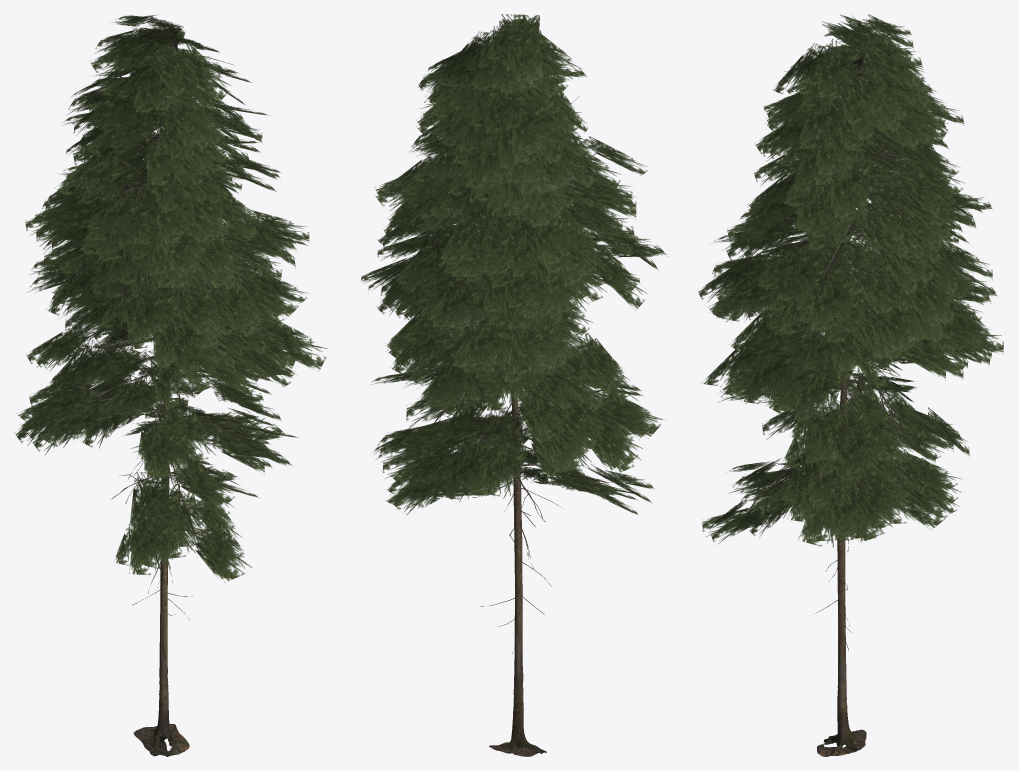
The model's file is fir_0.glb.
3 views of the same model, side by side, from view 1: azimuth 30°, elevation 25°; view 2: azimuth 150°, elevation 25°; view 3: azimuth 270°, elevation 25° (orthographic). The views are drawn at different scales.
Parts seen in each view (by area): view 1: fir_0_leaves, fir_tree_01_trunk_a, fir_tree_01_bark; view 2: fir_0_leaves, fir_tree_01_trunk_a, fir_tree_01_bark, fir_tree_01_dead_branches; view 3: fir_0_leaves, fir_tree_01_trunk_a, fir_tree_01_bark.
Boxes of the visible parts, x1=… form: fir_0_leaves: x1=14, y1=15, x2=327, y2=582; fir_tree_01_trunk_a: x1=133, y1=96, x2=189, y2=756; fir_tree_01_bark: x1=61, y1=26, x2=263, y2=541; fir_0_leaves: x1=361, y1=14, x2=667, y2=515; fir_tree_01_trunk_a: x1=489, y1=177, x2=546, y2=756; fir_tree_01_bark: x1=402, y1=95, x2=623, y2=495; fir_tree_01_dead_branches: x1=472, y1=411, x2=561, y2=653; fir_0_leaves: x1=698, y1=14, x2=1003, y2=547; fir_tree_01_trunk_a: x1=817, y1=152, x2=866, y2=756; fir_tree_01_bark: x1=744, y1=38, x2=953, y2=513.
Size of the model in its own units: 7.44 by 18.95 by 7.23.
Materials: 4 (4 with a texture image).
